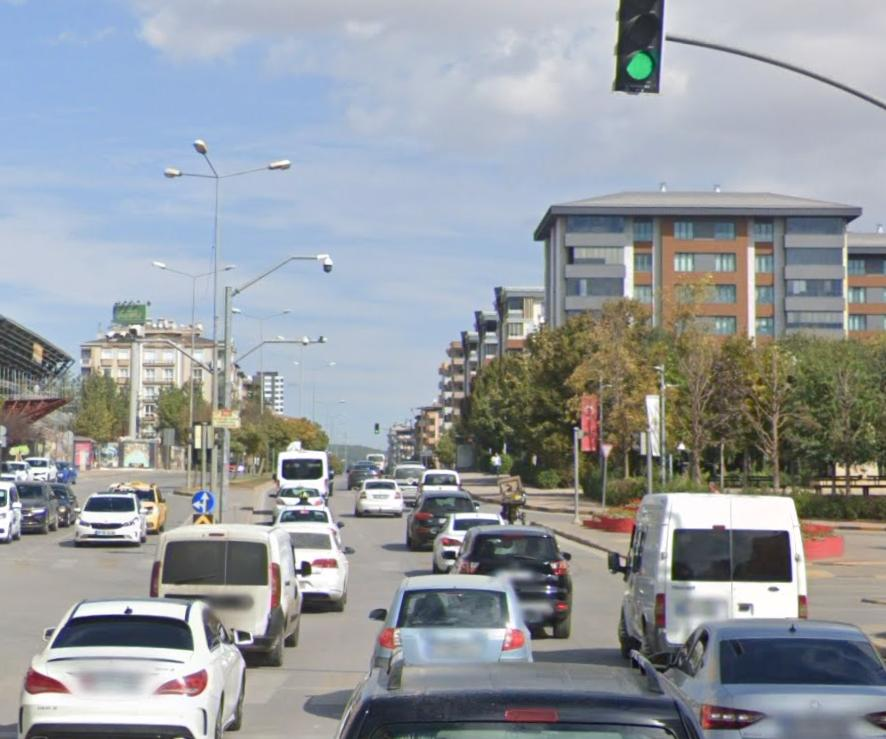greenlight: (617, 1, 663, 92)
